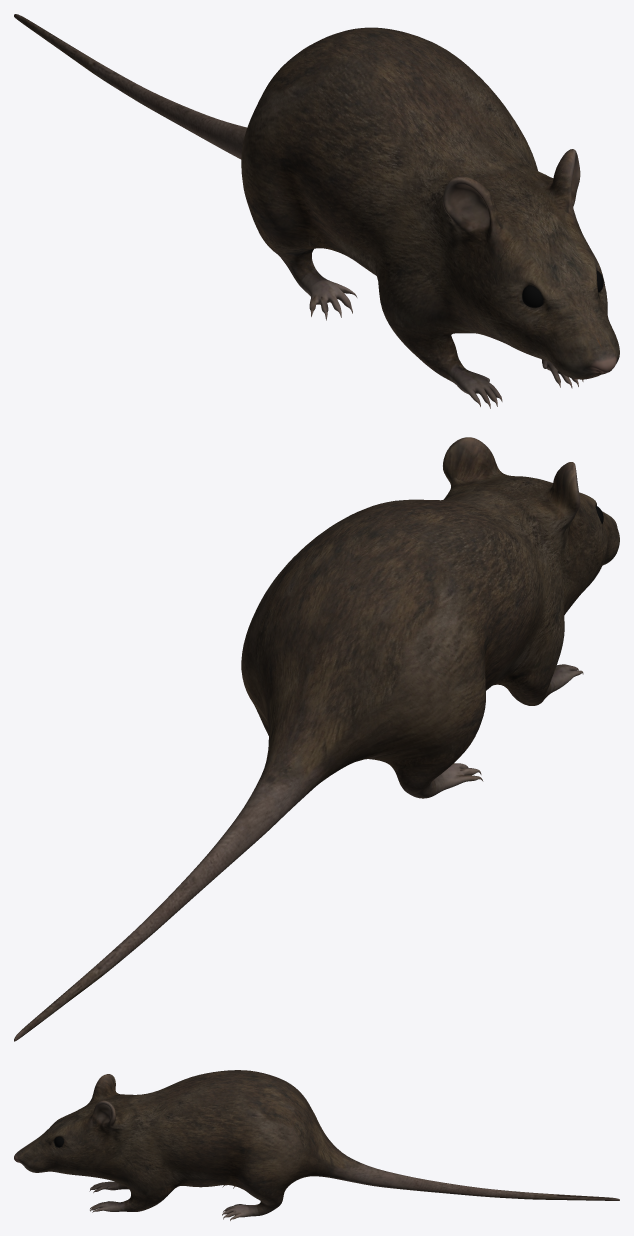
The model's file is rat.glb.
3 renders of one model, top to bottom at view 1: azimuth 30°, elevation 25°; view 2: azimuth 150°, elevation 25°; view 3: azimuth 270°, elevation 25°, orthographic. The views are drawn at different scales.
Parts seen in each view (by area): view 1: street_rat.001; view 2: street_rat.001; view 3: street_rat.001.
Boxes of the visible parts, x1,y1,x2,y2 form: street_rat.001: (14, 14, 619, 408); street_rat.001: (14, 437, 619, 1041); street_rat.001: (14, 1070, 619, 1220).
Size of the model in its own units: 0.3197 by 0.3387 by 1.48.
Materials: 1 (1 with a texture image).
